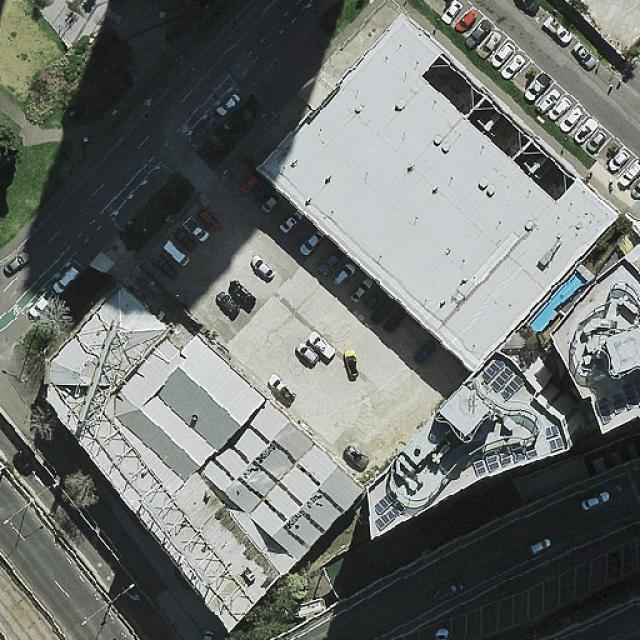Bike-Symbols: (144, 98, 154, 107), (182, 125, 192, 134), (14, 305, 22, 316)
